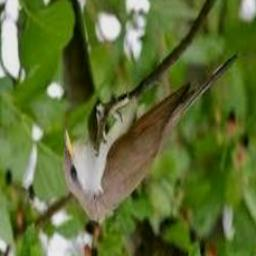Cuckoo: (65, 54, 238, 223)
